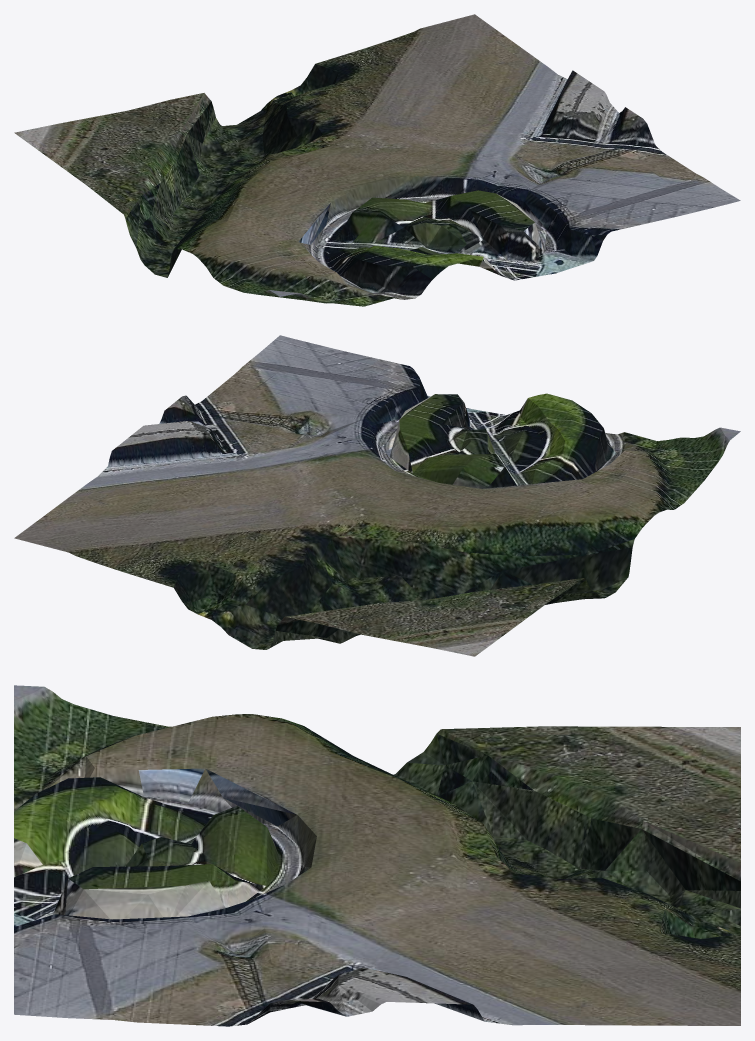
File: map_15_8179_13778.dae
3 renders of one model, top to bottom at view 1: azimuth 30°, elevation 25°; view 2: azimuth 150°, elevation 25°; view 3: azimuth 270°, elevation 25°, orthographic. The views are drawn at different scales.
Parts seen in each view (by area): view 1: Ter0; view 2: Ter0; view 3: Ter0.
Boxes of the visible parts, box(x1,y1,x2,y2) form: Ter0: box(14, 14, 740, 306); Ter0: box(14, 335, 740, 656); Ter0: box(14, 685, 740, 1026).
Size of the model in its own units: 63.87 by 63.88 by 10.84.
3 materials, 3 textured.
